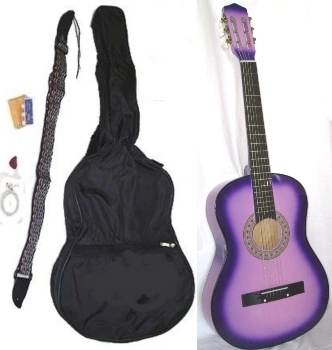guitar: (203, 2, 330, 350)
